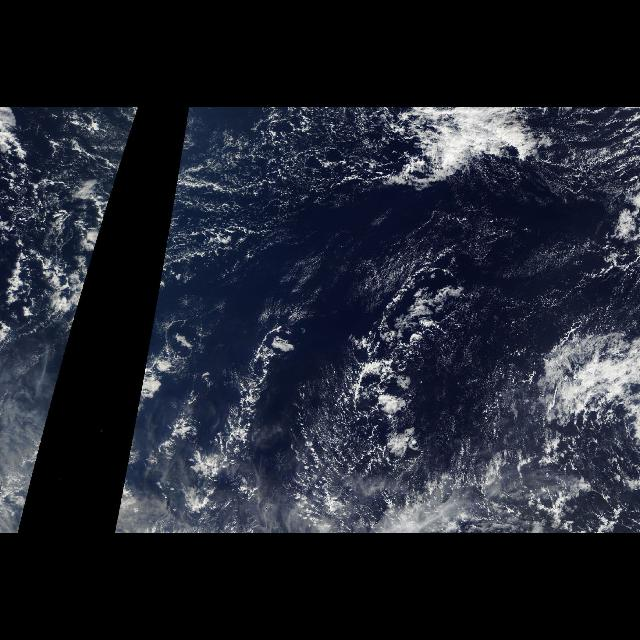Gravel: (160, 107, 394, 271)
Sugar: (354, 230, 594, 282)
